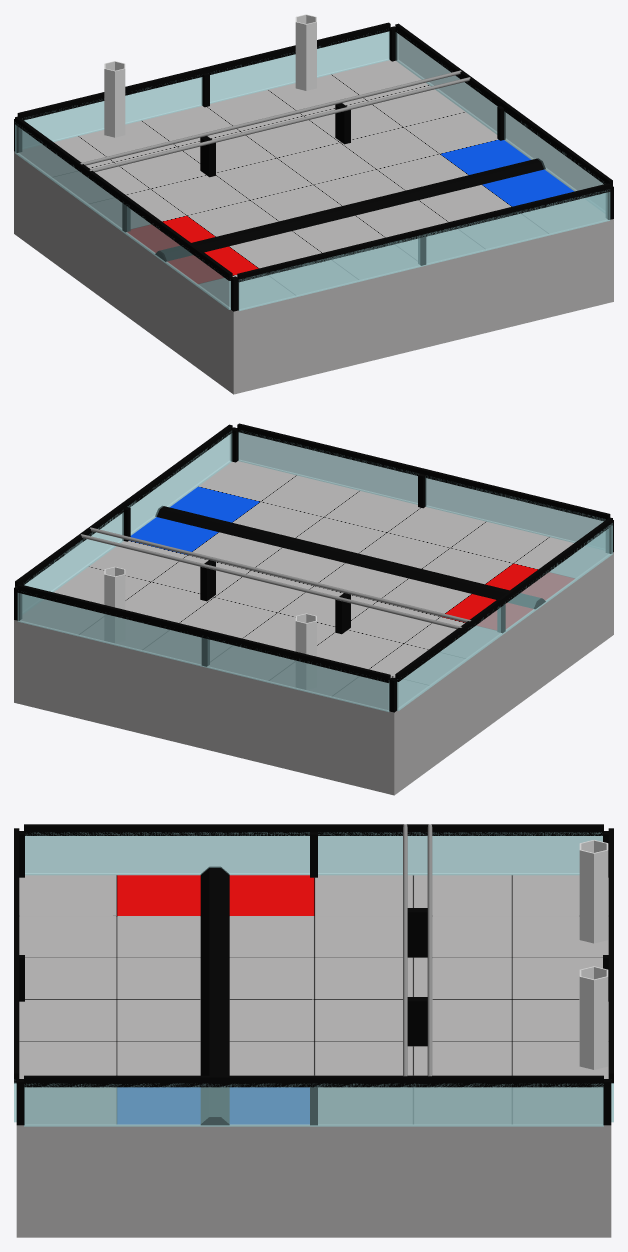
File: field2014.FBX
3 views of the same model, one above another, from view 1: azimuth 30°, elevation 25°; view 2: azimuth 150°, elevation 25°; view 3: azimuth 270°, elevation 25° (orthographic). The views are drawn at different scales.
Visible parts, largest first — view 1: Box001, Box005, Box004, Box002, Box003, Box018, Box016, Box014, Box015, Box017, Cylinder003, Cylinder004 (+4 smaller); view 2: Box001, Box004, Box005, Box002, Box003, Box018, Box014, Box016, Box015, Box017, Cylinder004, Cylinder003 (+4 smaller); view 3: Box001, Box003, Box002, Box017, Box018, Box015, Cylinder001, Cylinder002, Box016, Box014, Cylinder003, Cylinder004 (+2 smaller).
Boxes of the visible parts, x1,y1,x2,y2 form: Box001: (14,60,613,394); Box005: (238,190,610,311); Box004: (22,31,389,148); Box002: (15,122,230,309); Box003: (395,32,604,212); Box018: (155,158,545,261); Box016: (237,183,610,282); Box014: (17,22,390,120); Box015: (15,116,232,280); Box017: (395,23,612,185); Cylinder003: (80,70,461,165); Cylinder004: (89,77,470,172); Box001: (14,461,613,795); Box004: (17,592,389,711); Box005: (238,430,605,549); Box002: (397,523,612,710); Box003: (23,431,232,613); Box018: (155,506,545,608); Box014: (17,584,390,683); Box016: (237,423,610,521); Box015: (395,517,612,681); Box017: (15,424,232,586); Cylinder004: (90,527,471,622); Cylinder003: (81,534,461,629); Box001: (16,874,611,1237); Box003: (24,1083,603,1126); Box002: (25,832,602,875); Box017: (24,1075,603,1087); Box018: (200,866,229,1125); Box015: (24,824,603,835); Cylinder001: (579,966,608,1069); Cylinder002: (579,840,608,943); Box016: (14,828,19,1083); Box014: (608,828,613,1083); Cylinder003: (427,824,432,1076); Cylinder004: (403,824,407,1076).
Size of the model in its own units: 3.69 by 1.37 by 3.69.
